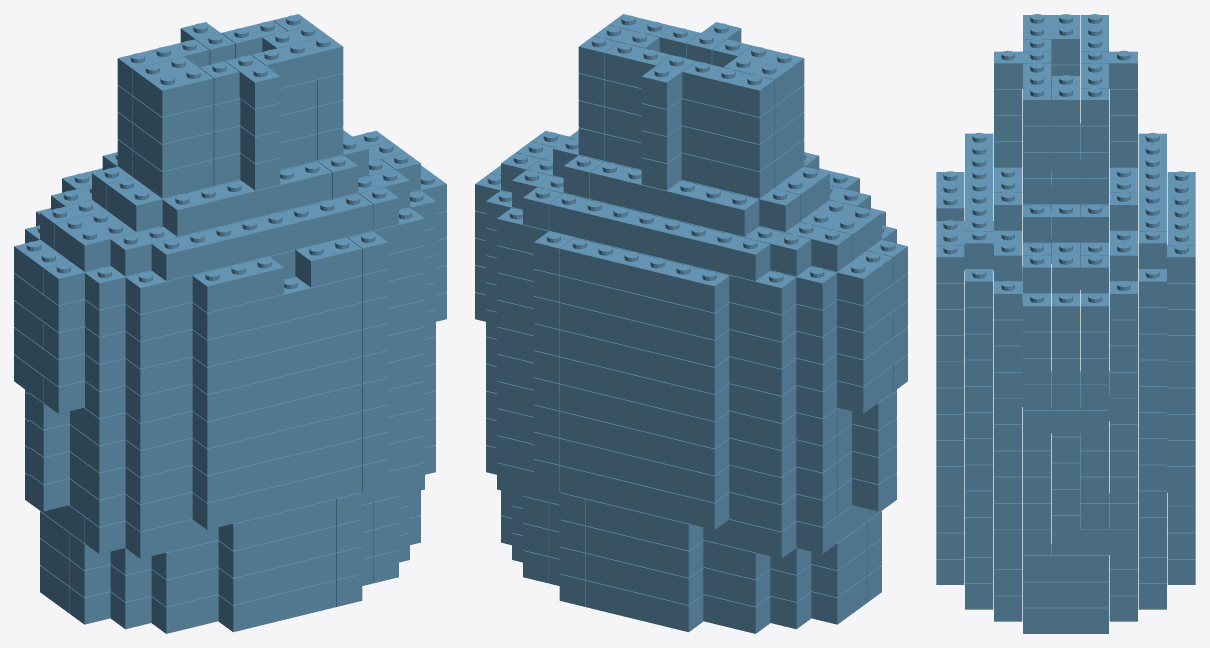
File: 083_bottle_L3.glb
The picture shows the model from 3 angles, left to right: view 1: azimuth 30°, elevation 25°; view 2: azimuth 150°, elevation 25°; view 3: azimuth 270°, elevation 25°; orthographic projection. The views are drawn at different scales.
Size of the model in its own units: 14.98 by 19.13 by 8.98.
